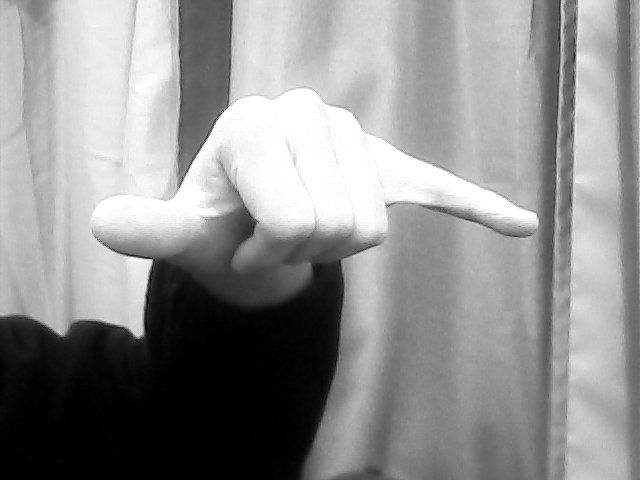aloha: (87, 85, 541, 298)
